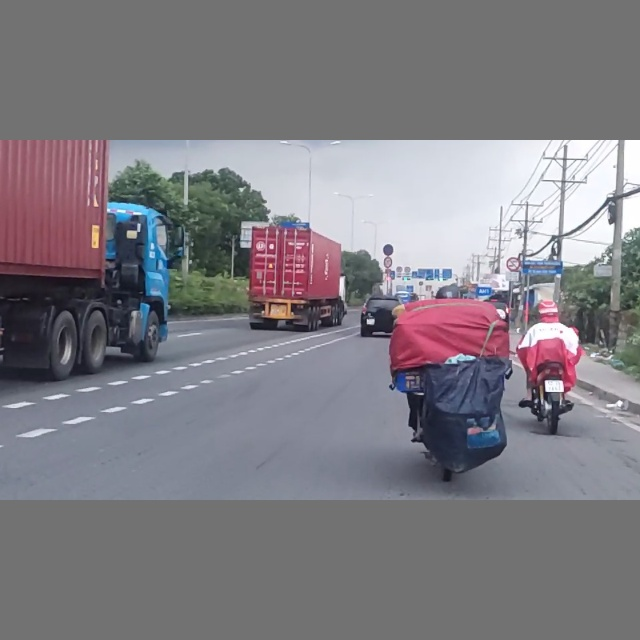P.107: (507, 257, 521, 272)
P.130: (382, 244, 394, 255)
